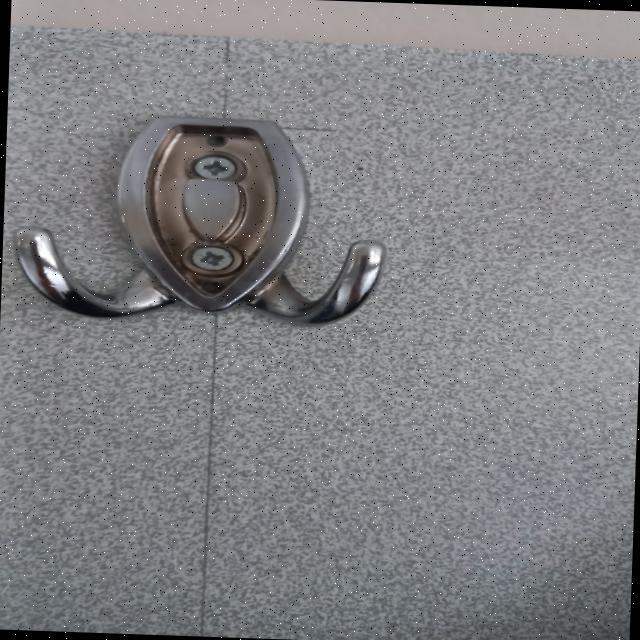Phillips: (181, 244, 247, 274), (192, 154, 238, 186)
